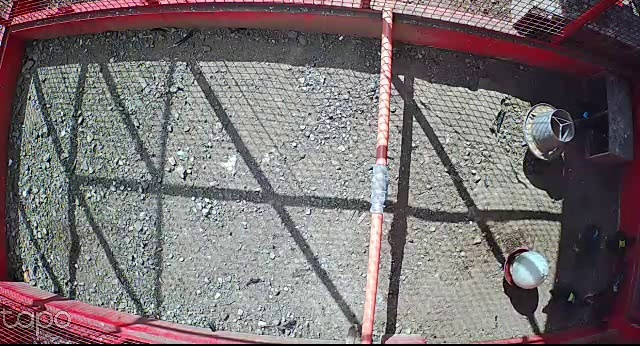Drinker: (504, 248, 548, 291)
Feeder: (524, 104, 575, 162)
Saddle_Color_Yellow: (619, 240, 625, 248)
Saddle_Color_YellowGreen: (568, 294, 576, 303)
